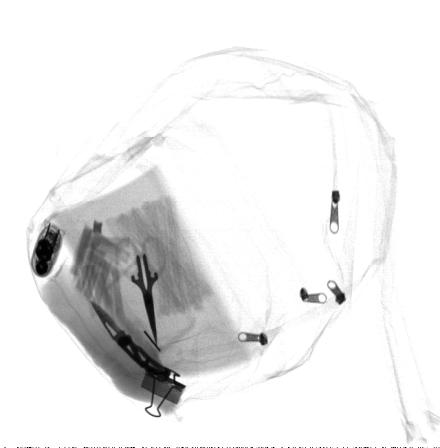Knife: (90, 301, 171, 383)
Scissors: (113, 232, 167, 350)
